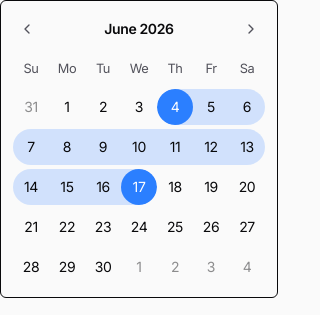
it: CalendarRangeSelect › advances month when Next Month button is clicked
Click the button named "Go to the Next Month": (251,29) [237,15,265,43]
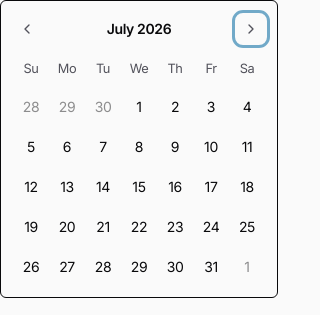
Now the text "July 2026" is shown, box [107,19,171,39]
